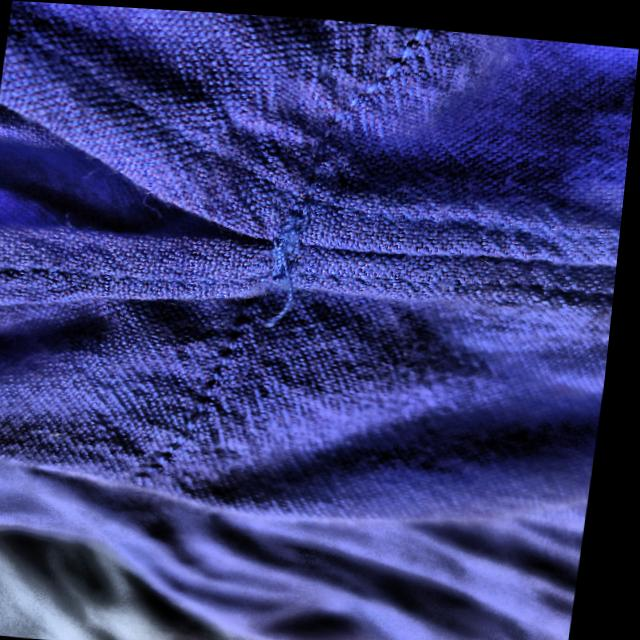Stitch: (240, 182, 334, 364)
